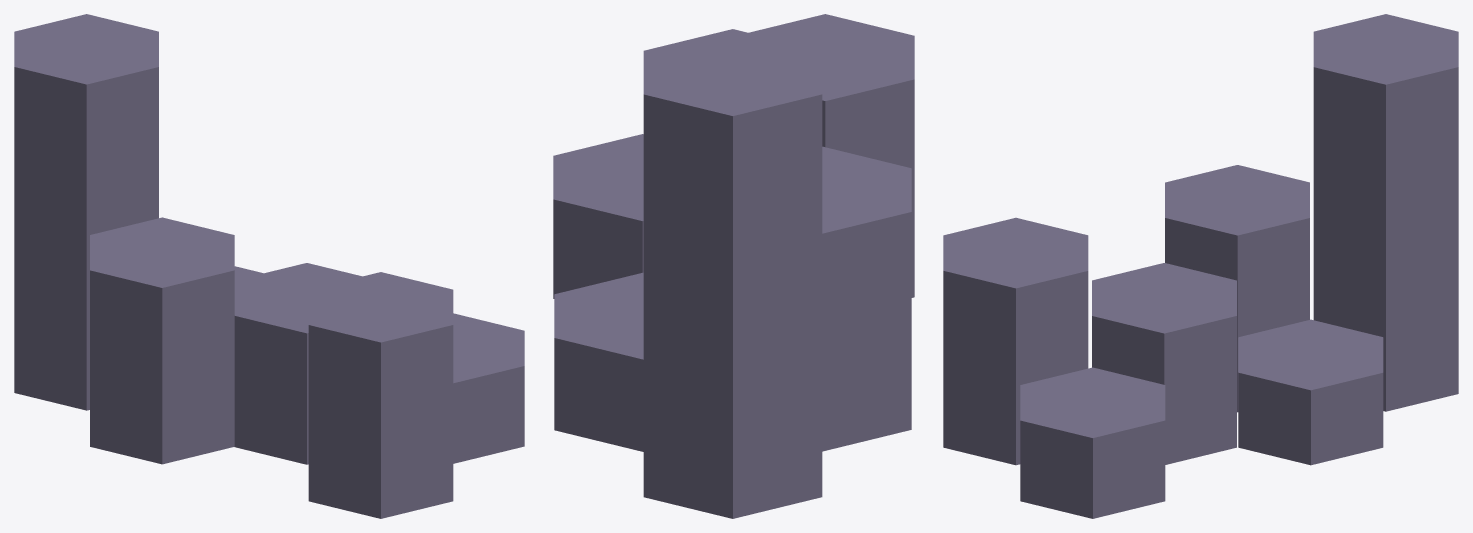
File: 玄武岩_04.glb
3 views of the same model, side by side, from view 1: azimuth 30°, elevation 25°; view 2: azimuth 150°, elevation 25°; view 3: azimuth 270°, elevation 25° (orthographic). The views are drawn at different scales.
Parts seen in each view (by area): view 1: 玄武岩_04; view 2: 玄武岩_04; view 3: 玄武岩_04.
Part boxes in pixels (x1=…): 玄武岩_04: x1=14, y1=14, x2=524, y2=518; 玄武岩_04: x1=553, y1=14, x2=914, y2=518; 玄武岩_04: x1=943, y1=14, x2=1458, y2=518.
Bounding box in the file's own units: 3.76 × 3.22 × 4.6.
